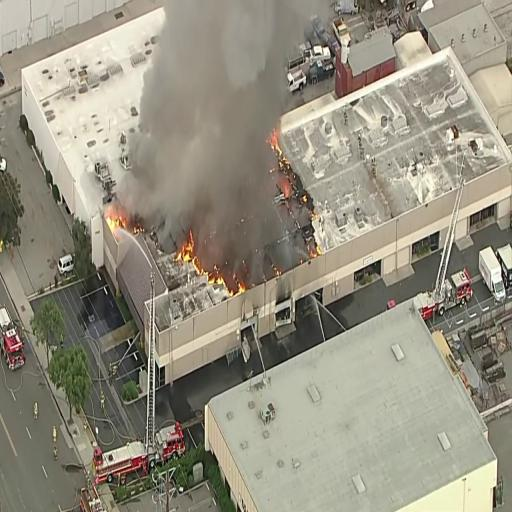smoke: (161, 0, 264, 166)
